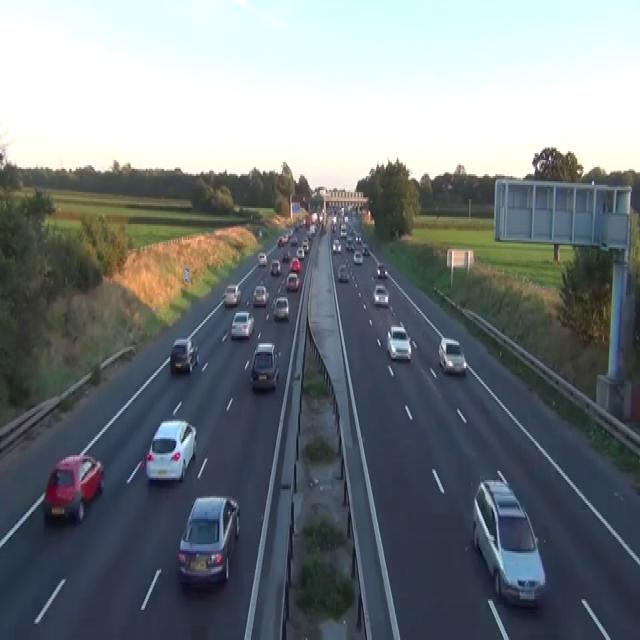Car: (471, 476, 546, 608), (177, 494, 240, 587), (42, 453, 104, 523), (145, 418, 197, 482), (250, 341, 279, 391), (170, 338, 199, 373), (438, 338, 466, 373), (386, 323, 411, 361), (230, 311, 254, 340), (222, 284, 241, 306), (272, 297, 289, 320), (252, 284, 269, 306), (373, 284, 389, 306), (286, 272, 299, 290), (270, 258, 281, 276), (337, 263, 348, 281), (289, 256, 300, 272), (257, 250, 267, 266), (376, 263, 387, 277), (353, 249, 362, 265), (332, 238, 341, 252), (345, 238, 354, 251), (296, 246, 304, 260), (301, 238, 309, 251), (339, 224, 347, 236), (362, 245, 370, 256), (308, 224, 316, 235), (282, 251, 289, 261), (277, 235, 284, 245), (331, 217, 336, 231), (304, 215, 310, 226), (290, 237, 297, 246), (282, 233, 289, 242), (311, 212, 317, 222), (355, 233, 361, 243), (287, 228, 293, 238), (305, 230, 312, 238), (294, 222, 300, 231), (302, 217, 306, 226), (343, 215, 348, 222), (258, 228, 262, 236)
